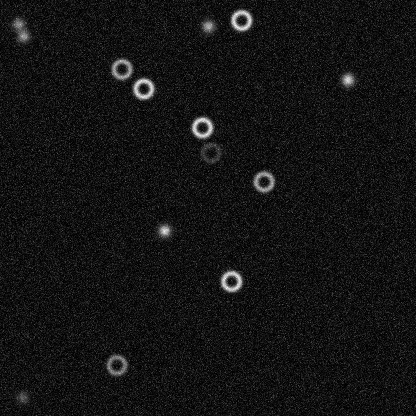Ring: (219, 269, 243, 293), (190, 115, 214, 139), (109, 56, 133, 80), (131, 76, 155, 100), (251, 169, 275, 193), (198, 140, 222, 164), (104, 352, 128, 376), (229, 8, 253, 32)
Spot: (339, 71, 355, 87), (156, 222, 172, 238), (15, 27, 31, 43), (200, 18, 216, 34), (14, 389, 30, 405), (10, 15, 26, 31)
